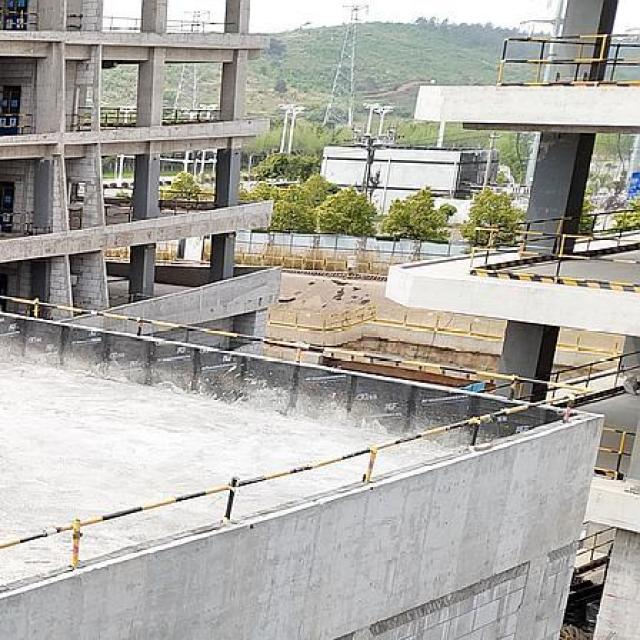edge_guardrail: (0, 290, 599, 570), (467, 216, 640, 278), (495, 32, 640, 85), (548, 348, 640, 391), (581, 208, 640, 252), (592, 423, 638, 478), (576, 526, 616, 563), (66, 14, 143, 29), (164, 19, 239, 34), (158, 190, 215, 209), (1, 9, 39, 31), (100, 106, 140, 124), (0, 112, 34, 133), (104, 204, 134, 226), (162, 109, 221, 120), (0, 211, 36, 225), (65, 114, 92, 130)
